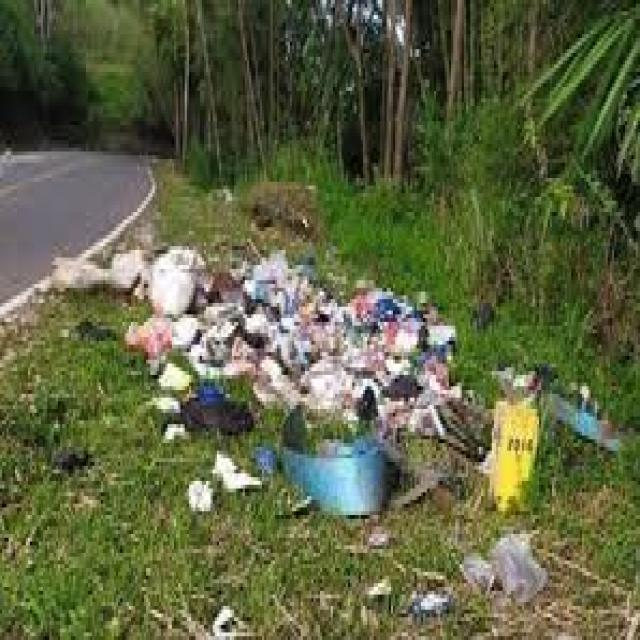trash: (51, 178, 610, 640)
